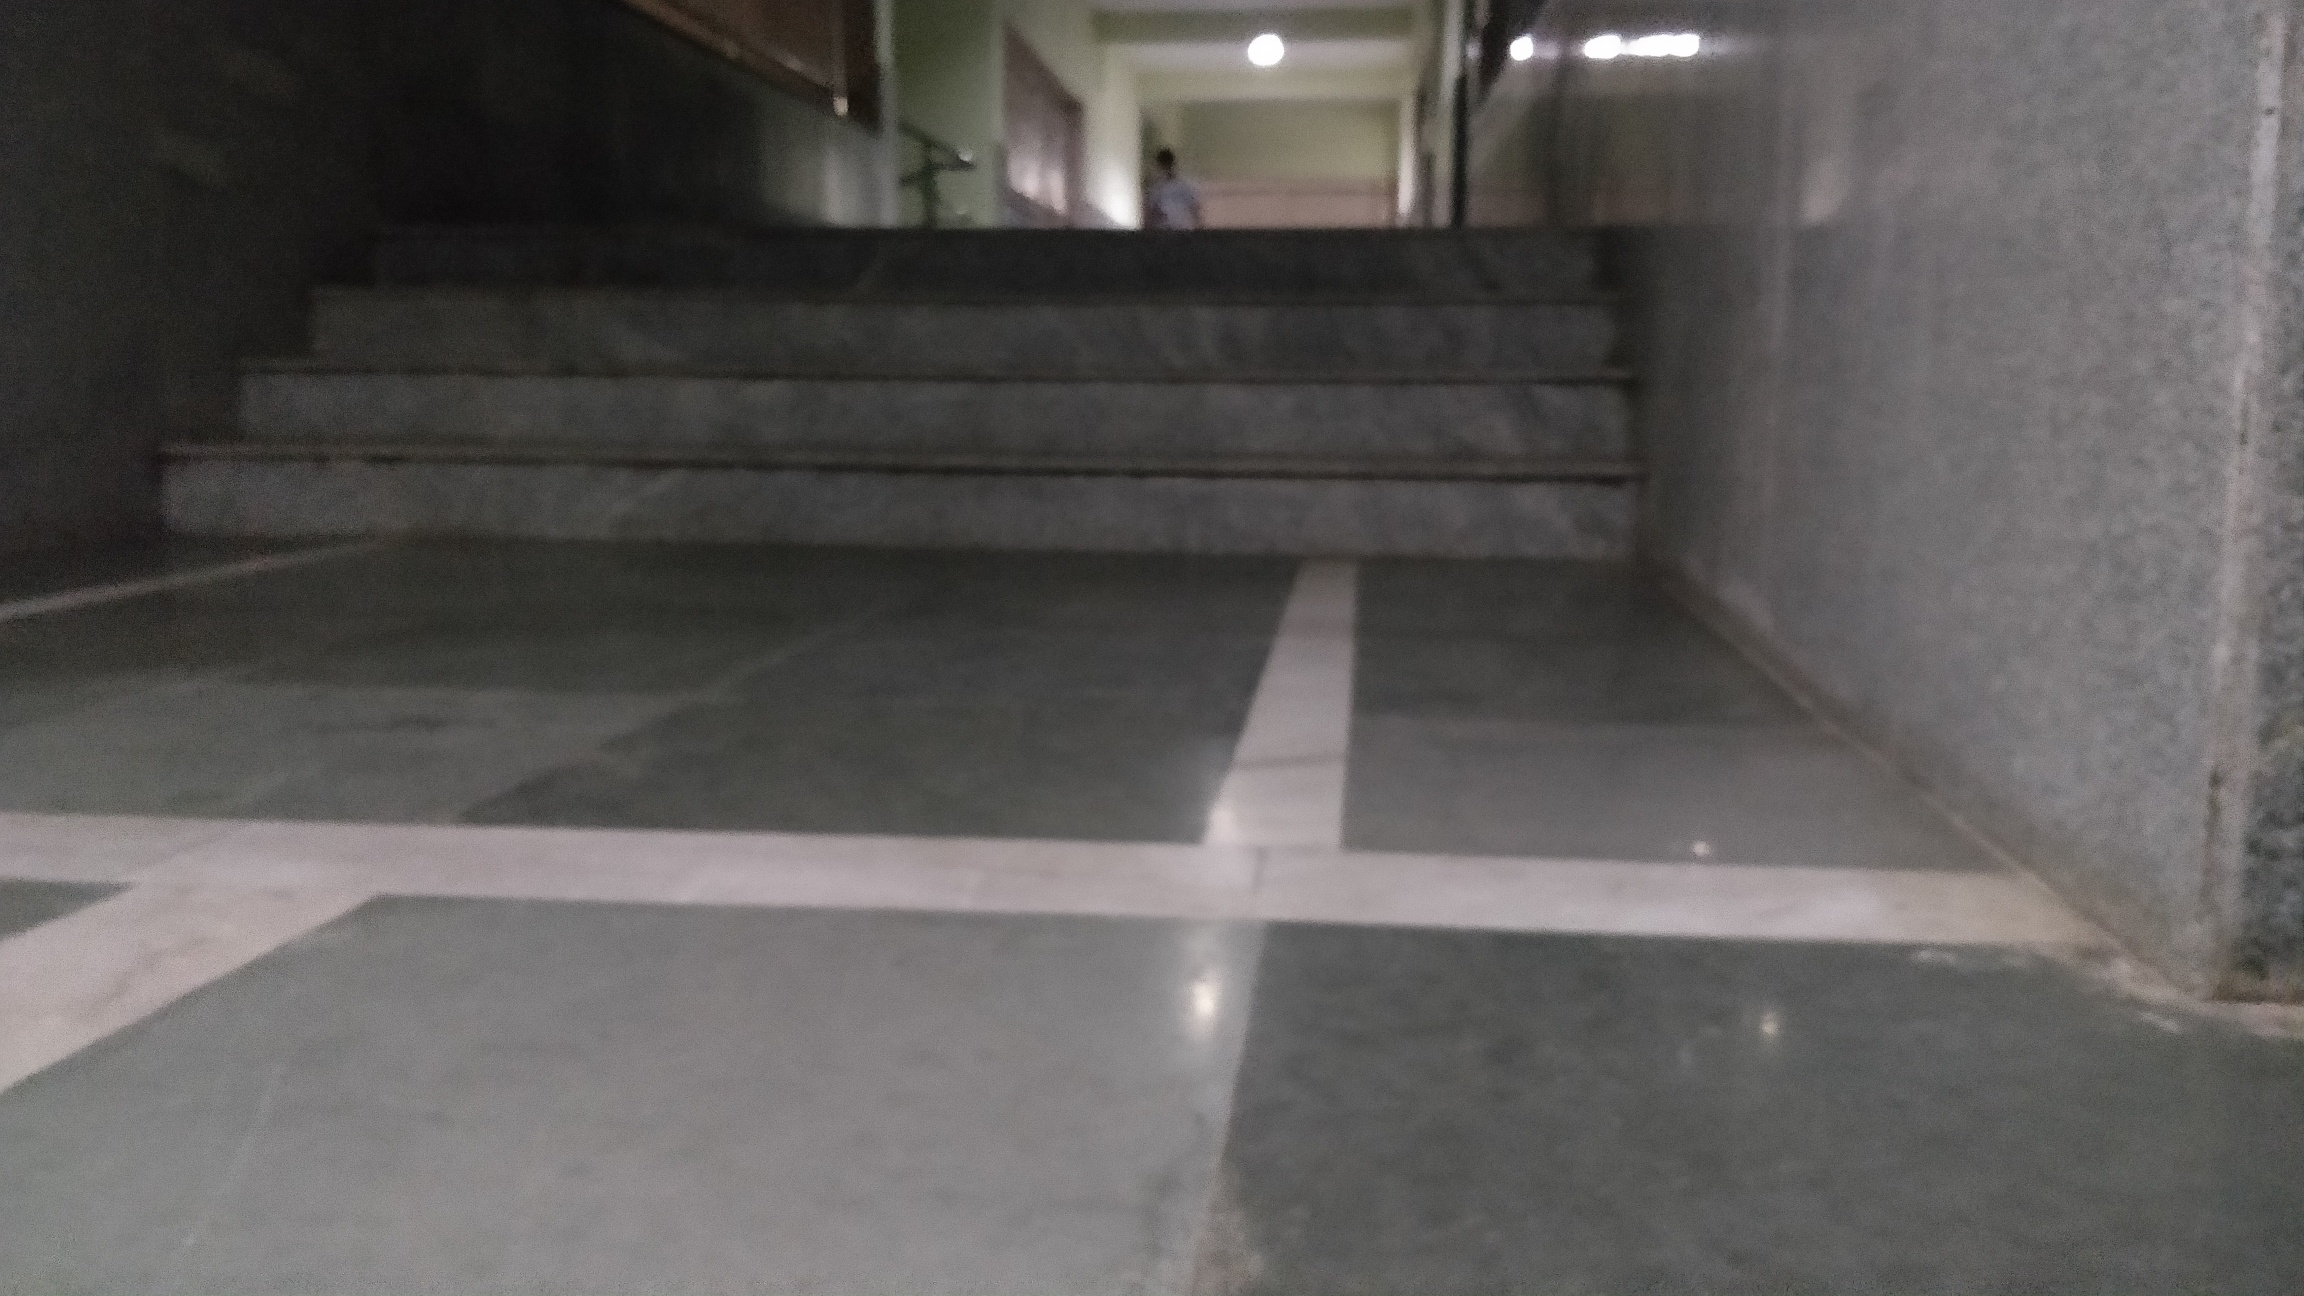stairs_up: (130, 210, 1631, 557)
